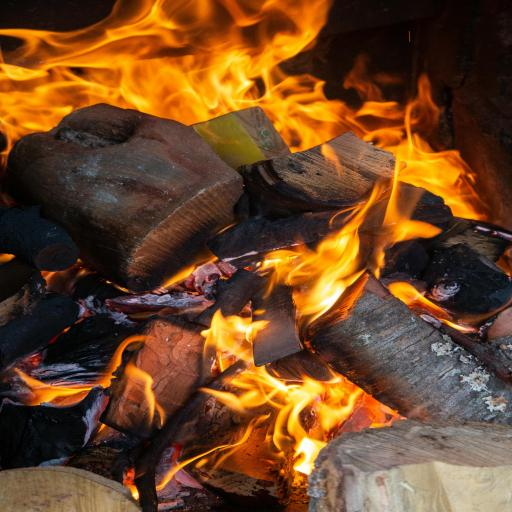campfire: (7, 2, 512, 512)
fire: (0, 0, 484, 218), (264, 185, 427, 324), (212, 362, 363, 470), (204, 319, 265, 370)
